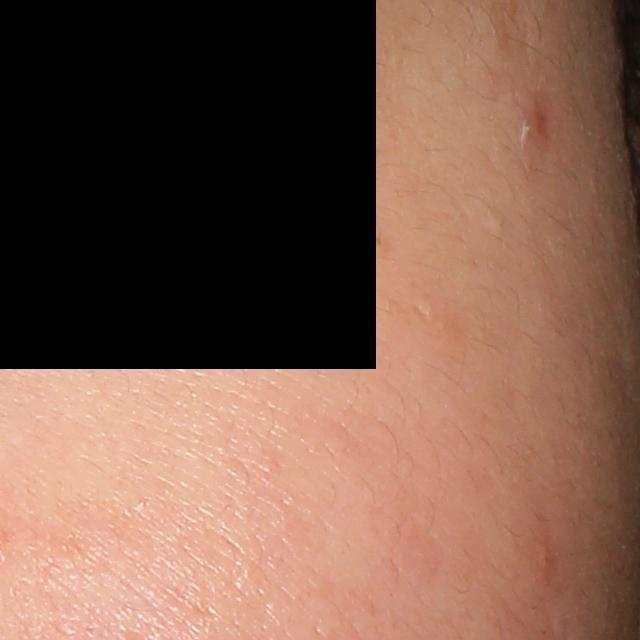papule: (524, 96, 550, 136)
